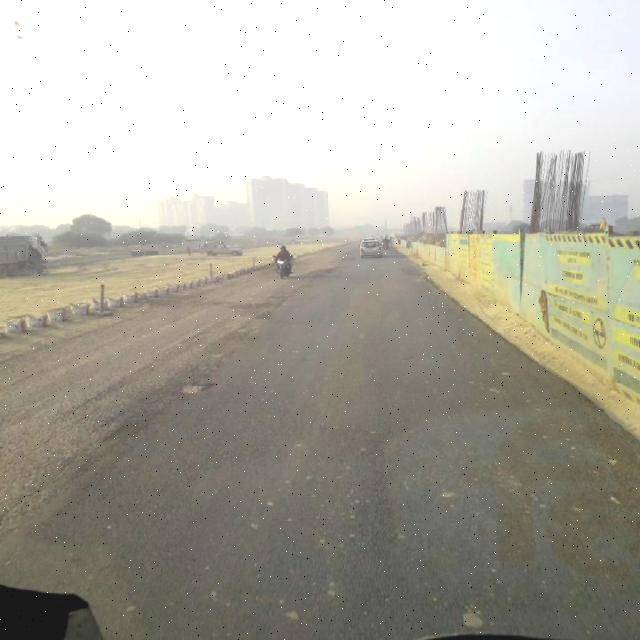D40: (181, 374, 215, 398)
